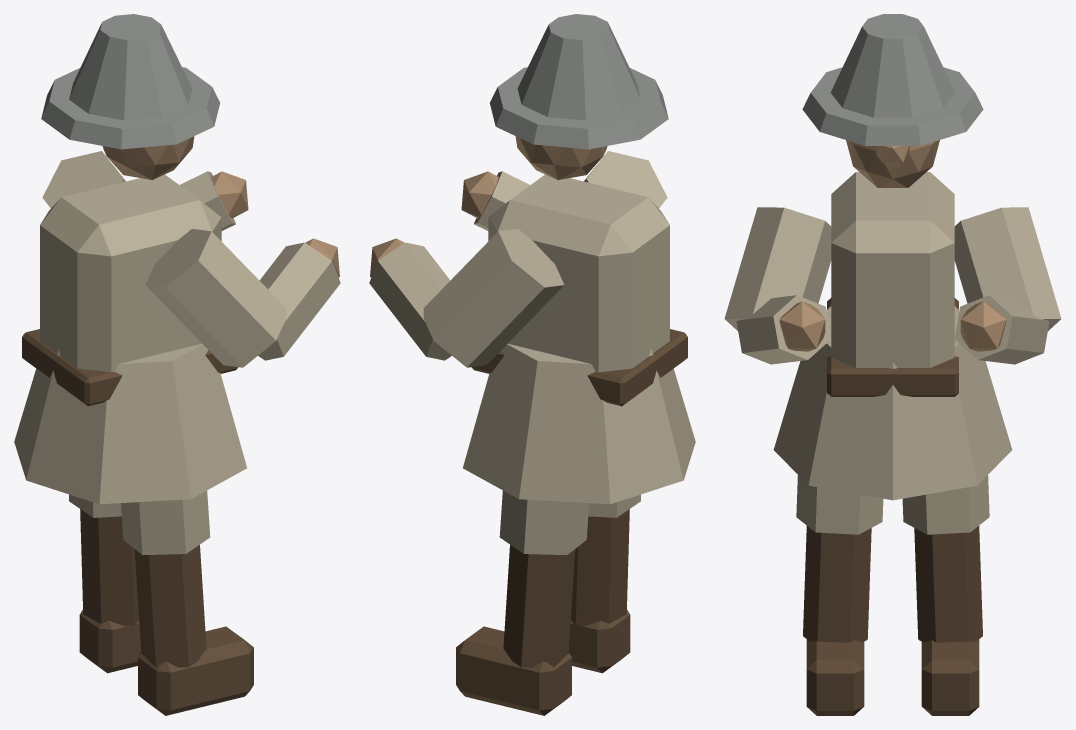
Rendered from unarmed_adult_static.glb.
3 views of the same model, side by side, from view 1: azimuth 30°, elevation 25°; view 2: azimuth 150°, elevation 25°; view 3: azimuth 270°, elevation 25° (orthographic).
Parts seen in each view (by area): view 1: unarmed_adult_static; view 2: unarmed_adult_static; view 3: unarmed_adult_static.
Boxes of the visible parts, left/top/right/bottom form: unarmed_adult_static: left=14, top=14, right=340, bottom=715; unarmed_adult_static: left=369, top=14, right=695, bottom=715; unarmed_adult_static: left=724, top=14, right=1061, bottom=715.
Bounding box in the file's own units: 0.7371 × 1.75 × 0.8186.
